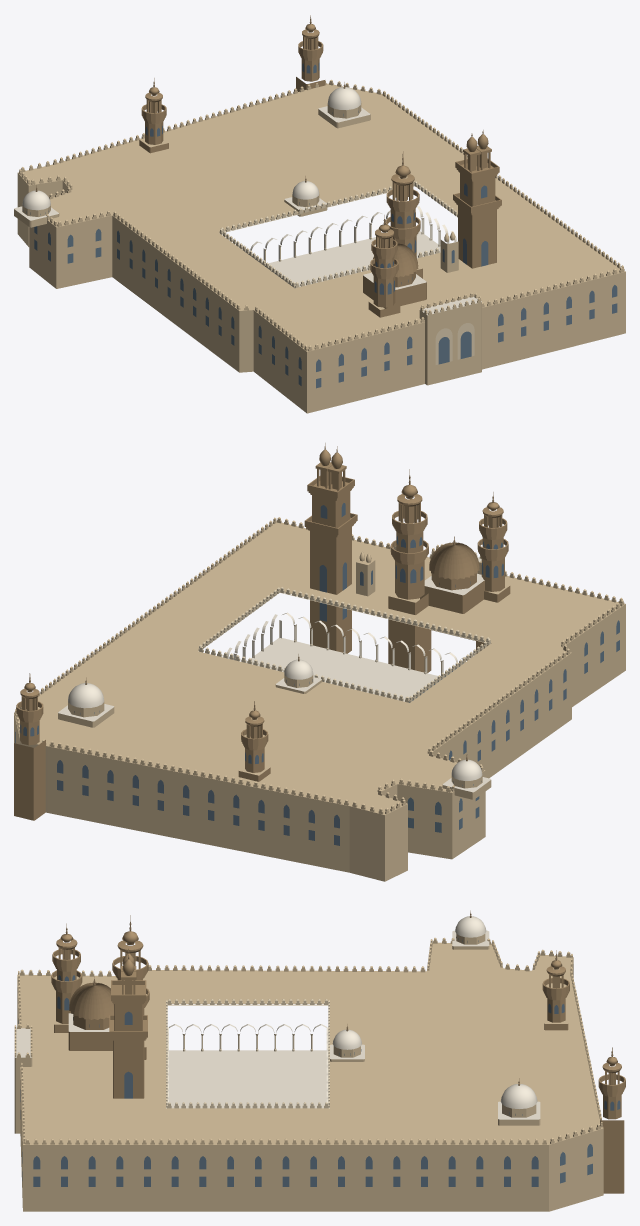
The model's file is cairo-al-azhar-mosque.detail.glb.
3 renders of one model, top to bottom at view 1: azimuth 30°, elevation 25°; view 2: azimuth 150°, elevation 25°; view 3: azimuth 270°, elevation 25°, orthographic. The views are drawn at different scales.
Parts seen in each view (by area): view 1: Al-Azhar Mosque; view 2: Al-Azhar Mosque; view 3: Al-Azhar Mosque.
Boxes of the visible parts, x1=… form: Al-Azhar Mosque: x1=14, y1=15, x2=625, y2=413; Al-Azhar Mosque: x1=14, y1=443, x2=625, y2=881; Al-Azhar Mosque: x1=14, y1=910, x2=625, y2=1211.
Size of the model in its own units: 108 by 50.2 by 133.
